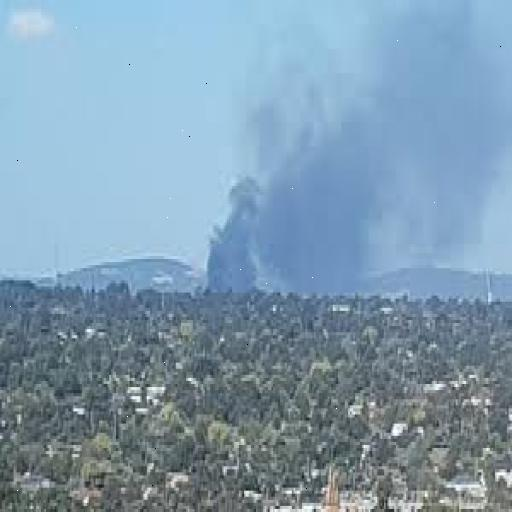smoke: (194, 125, 404, 286)
